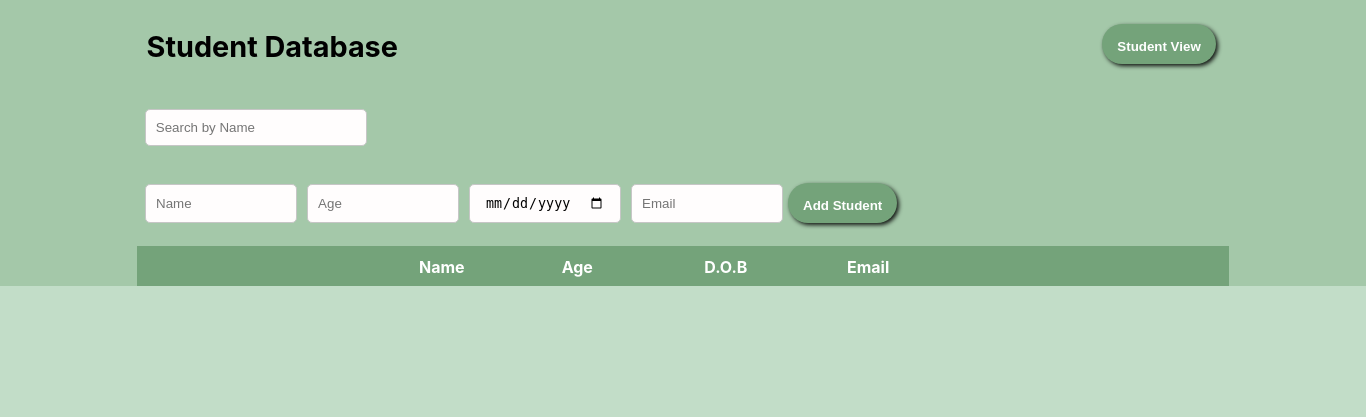
Test: Creates new entry on form submission
Type "Jimmy" into the field with placeholder "Name" at (221, 203), box top-left (145, 184), bottom-right (297, 223)
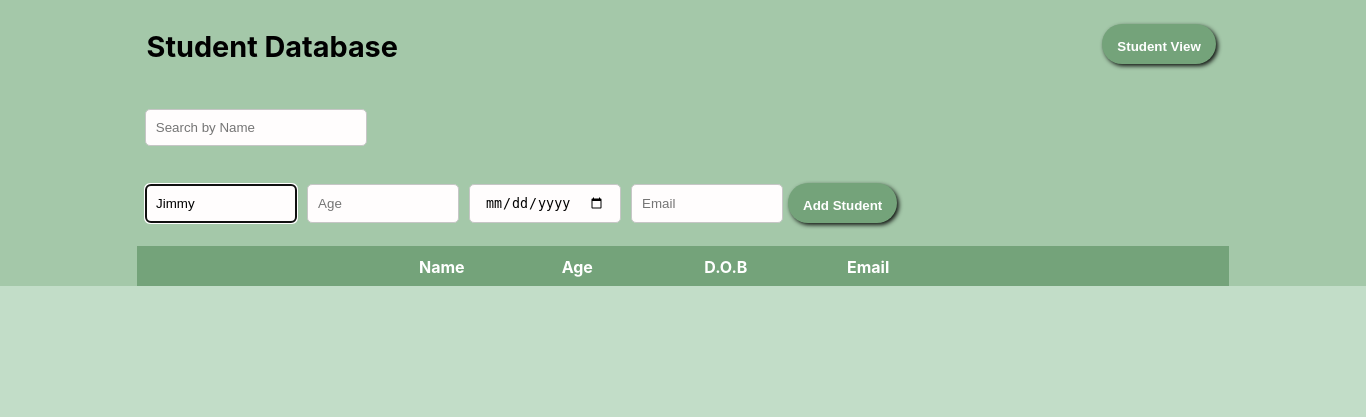
Type "25" into the number field with placeholder "Age" at (383, 203), box top-left (307, 184), bottom-right (459, 223)
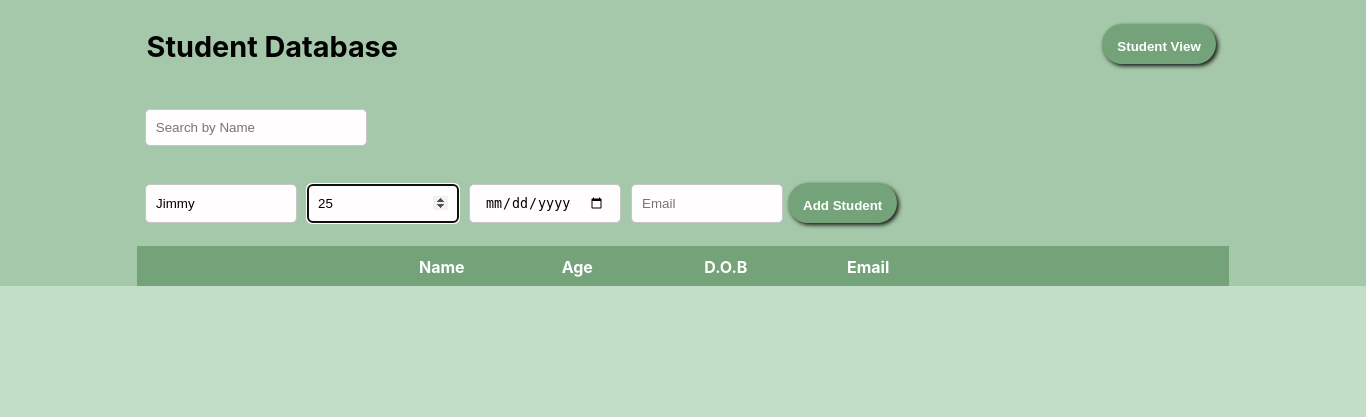
Type "1999-01-01" into the date field with placeholder "Date of Birth" at (545, 203), box top-left (469, 184), bottom-right (621, 223)
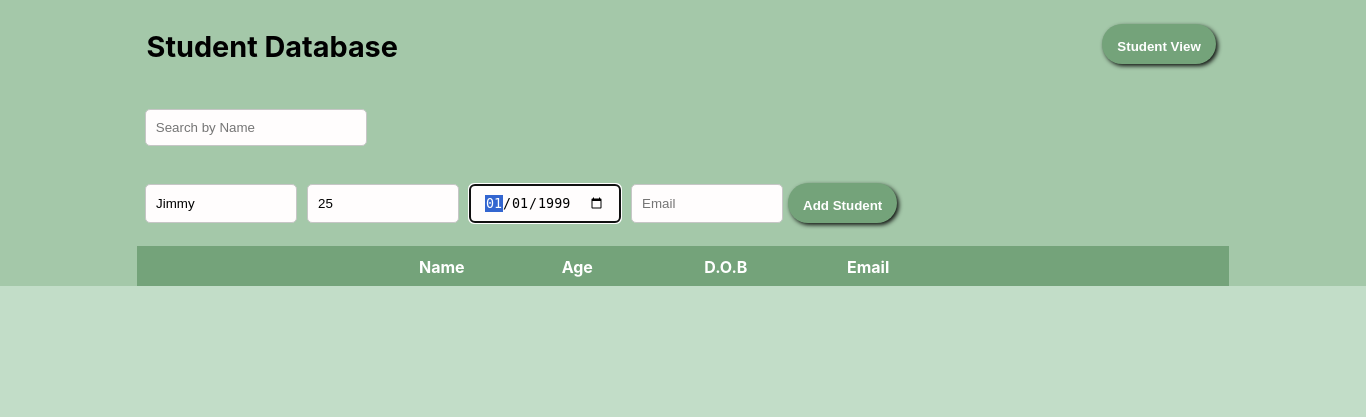
Type "john.doe@example.com" into the field with placeholder "Email" at (707, 203), box top-left (631, 184), bottom-right (783, 223)
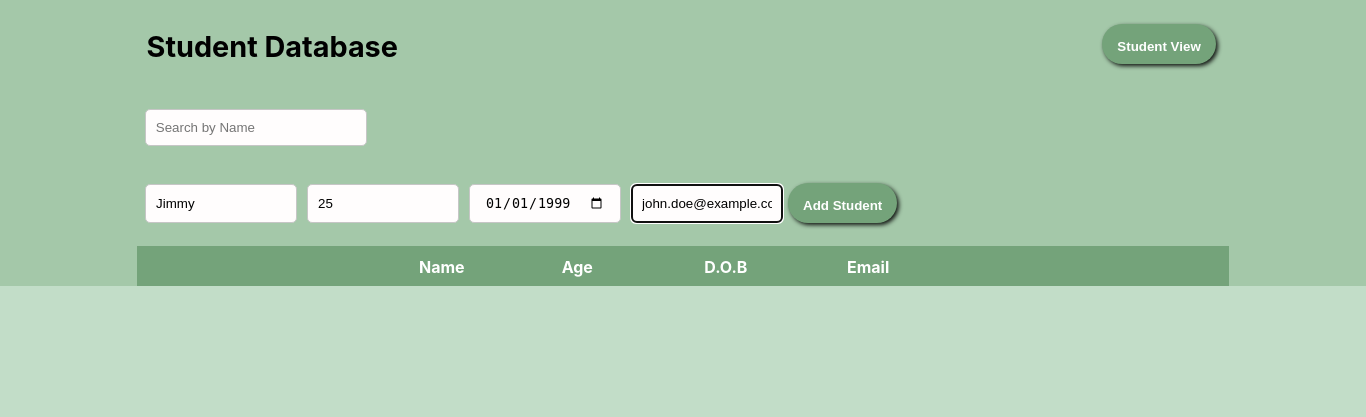
Click the button "Add Student" at (843, 203), box top-left (788, 183), bottom-right (897, 223)
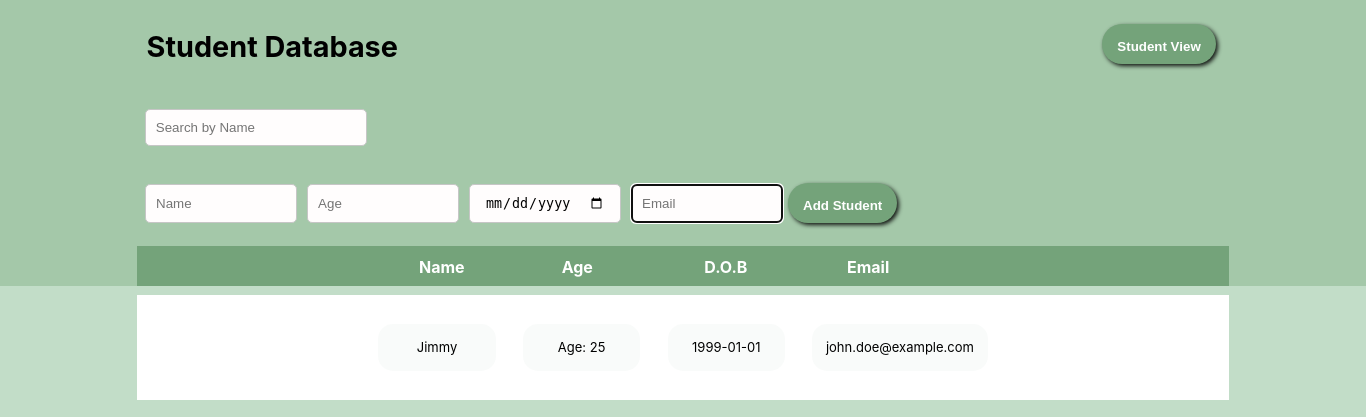
Now the text "Jimmy" is shown, box top-left (378, 324), bottom-right (496, 371)
Now the text "1999-01-01" is shown, box top-left (668, 324), bottom-right (785, 371)
Now the text "john.doe@example.com" is shown, box top-left (812, 324), bottom-right (988, 371)
